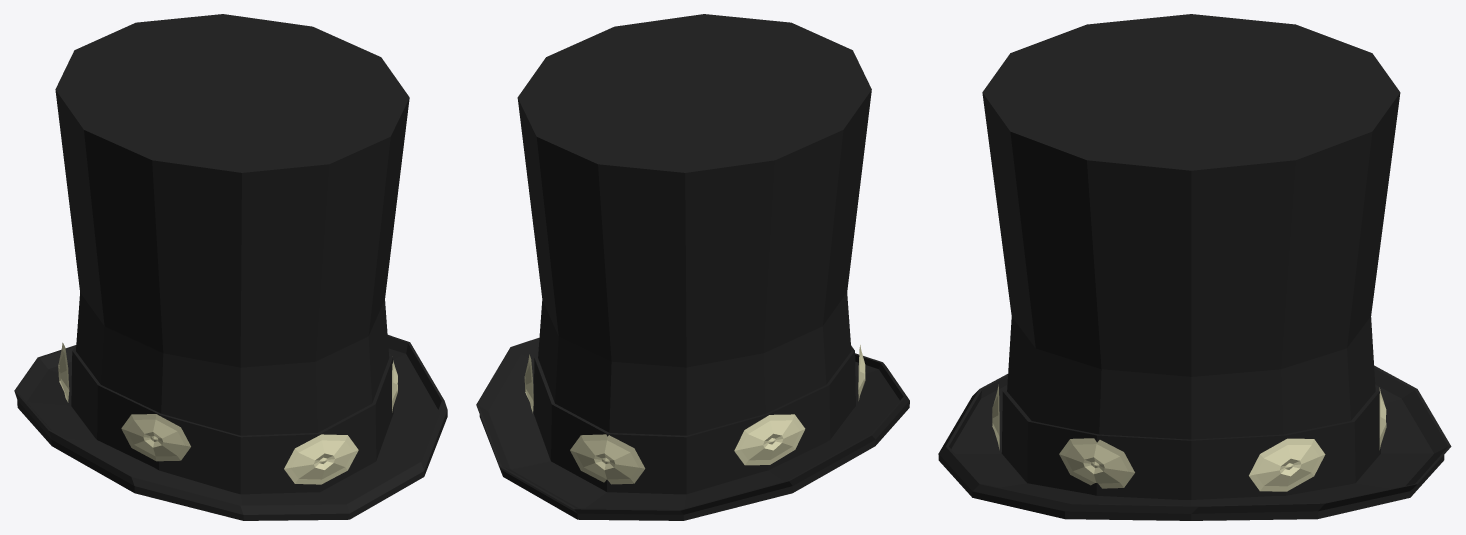
File: Cartola.fbx
3 renders of one model, left to right at view 1: azimuth 30°, elevation 25°; view 2: azimuth 150°, elevation 25°; view 3: azimuth 270°, elevation 25°, orthographic. The views are drawn at different scales.
Visible parts, largest first — view 1: Cartola; view 2: Cartola; view 3: Cartola.
Boxes of the visible parts, x1,y1,x2,y2 form: Cartola: (14,14,447,520); Cartola: (476,14,909,520); Cartola: (938,14,1451,520).
Size of the model in its own units: 31.9 by 28.7 by 36.27.
